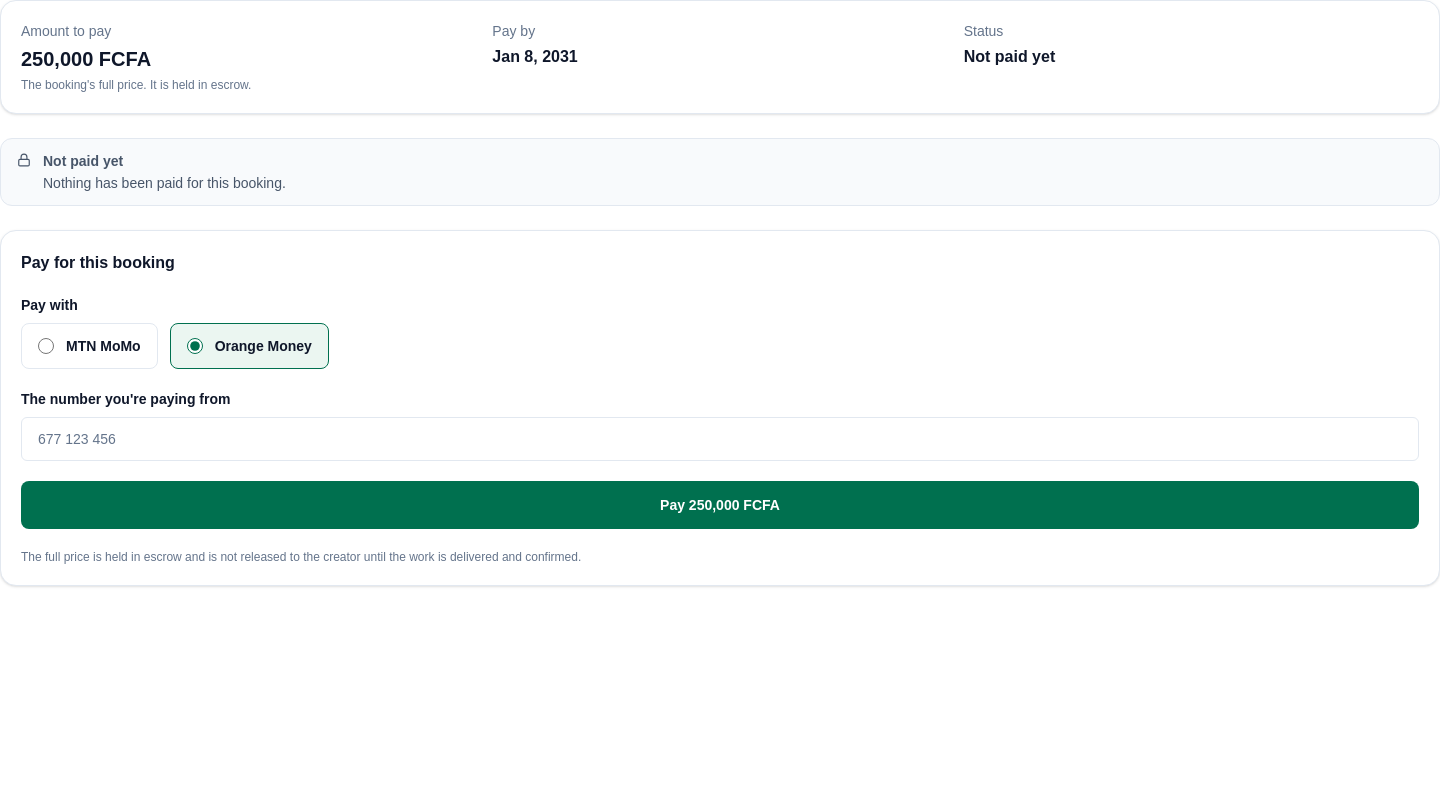
Test case: pay panel › validates locally and sends nothing
The width and height of the screenshot is (1440, 810).
Type "123" into the field labelled "The number you're paying from" at (720, 439), box [21, 417, 1419, 461]
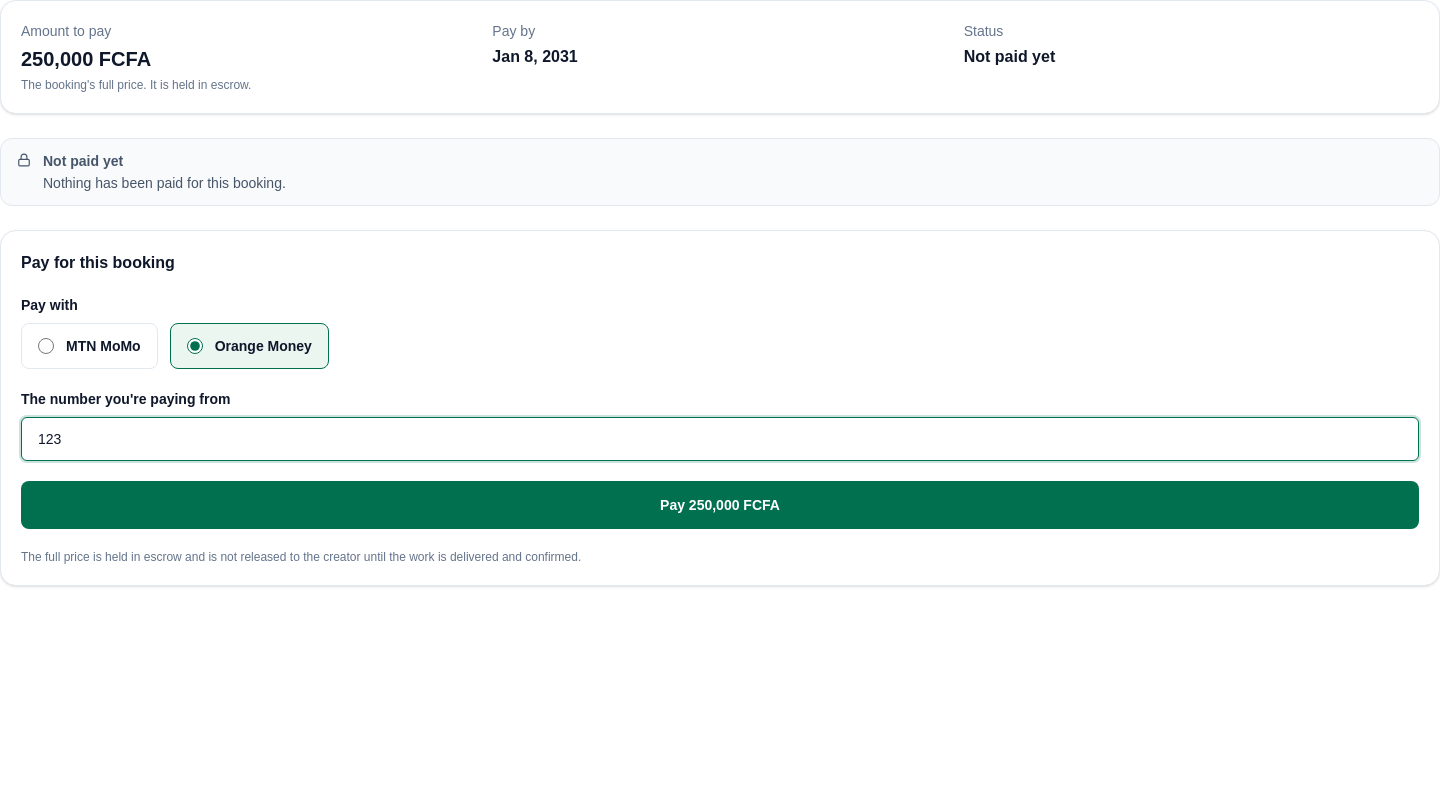
Click the button "Pay 250,000 FCFA" at (720, 505), box [21, 481, 1419, 529]
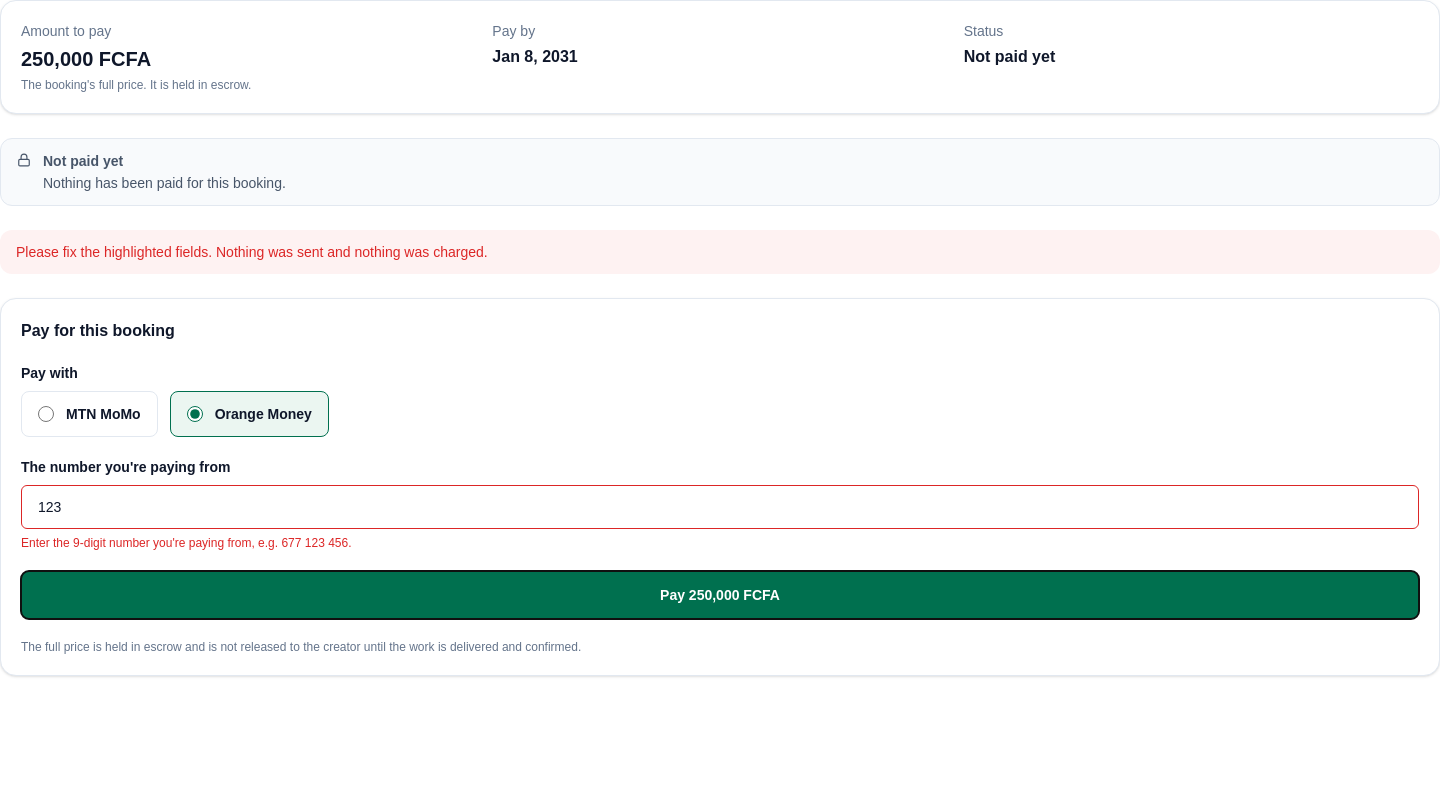
Expected: the text "Enter the 9-digit number" is shown, [21, 536, 352, 550]
Expected: the message "Please fix the highlighted fields. Nothing was sent and nothing was charged." is shown, [0, 230, 1439, 274]
